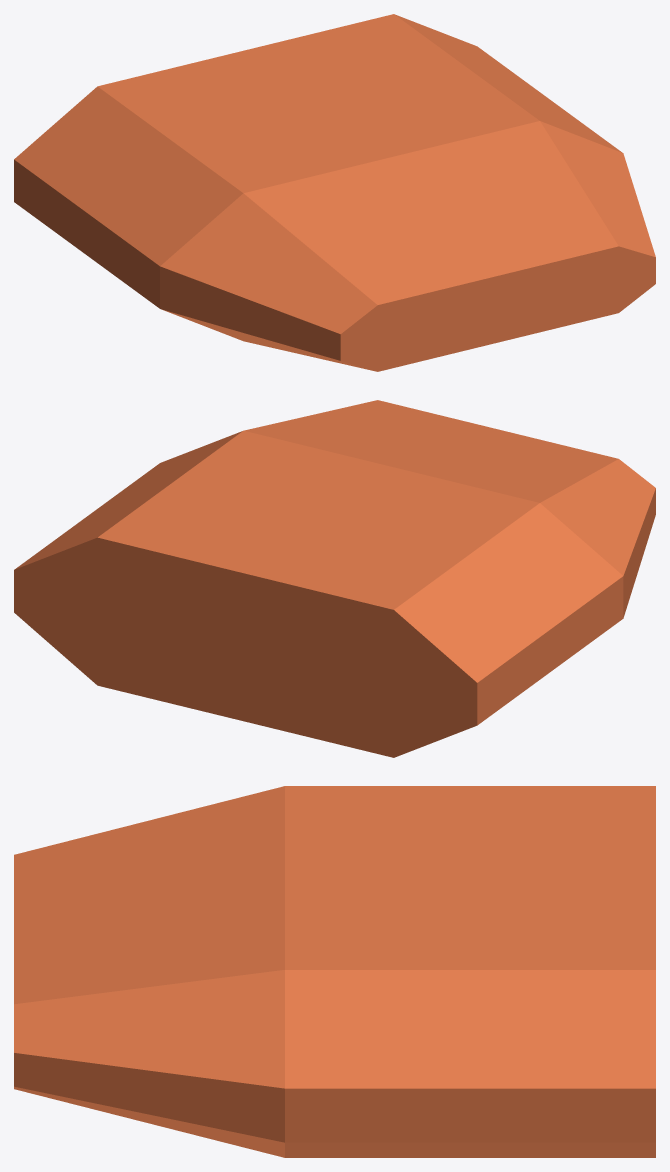
File: CapitalShip_HullCollider2.fbx
The picture shows the model from 3 angles, top to bottom: view 1: azimuth 30°, elevation 25°; view 2: azimuth 150°, elevation 25°; view 3: azimuth 270°, elevation 25°; orthographic projection. The views are drawn at different scales.
Visible parts, largest first — view 1: CapitalShip_HullCollider2; view 2: CapitalShip_HullCollider2; view 3: CapitalShip_HullCollider2.
Boxes of the visible parts, x1,y1,x2,y2 form: CapitalShip_HullCollider2: (14, 14, 655, 371); CapitalShip_HullCollider2: (14, 400, 655, 757); CapitalShip_HullCollider2: (14, 786, 655, 1157).
Bounding box in the file's own units: 452 × 138 × 427.
